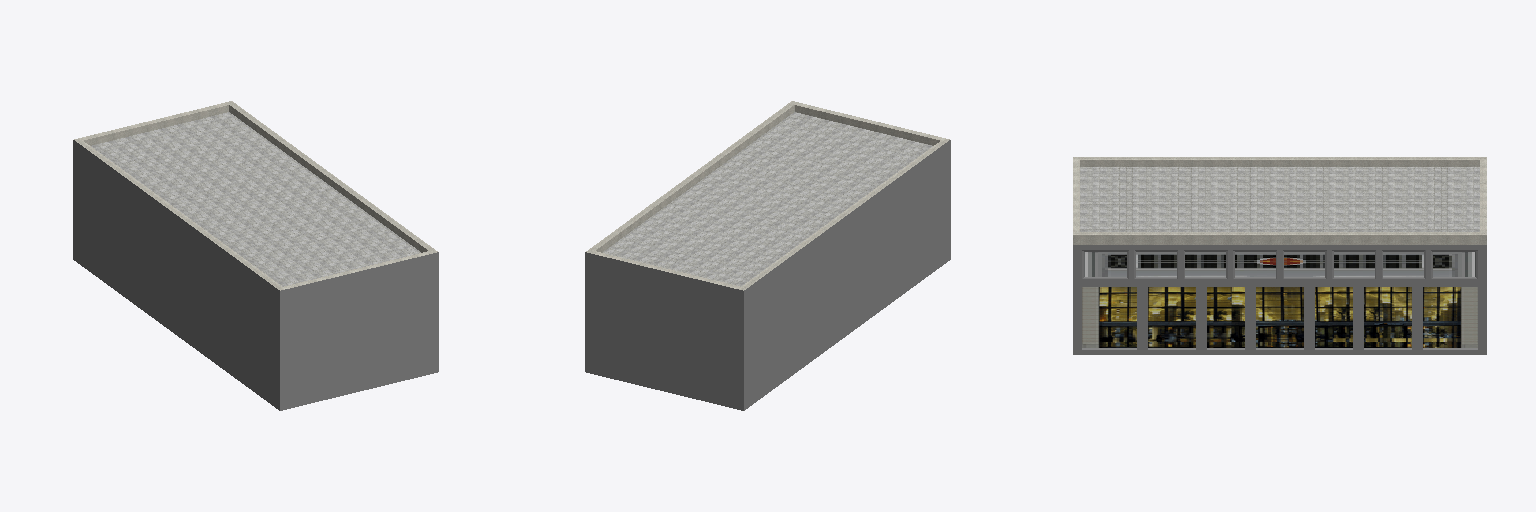
The picture shows the model from 3 angles: view 1: azimuth 30°, elevation 25°; view 2: azimuth 150°, elevation 25°; view 3: azimuth 270°, elevation 25°; orthographic projection.
Visible parts, largest first — view 1: shop1; view 2: shop1; view 3: shop1.
Part boxes in pixels (bbox=[...]): shop1: bbox=[73, 101, 438, 410]; shop1: bbox=[585, 101, 950, 410]; shop1: bbox=[1073, 157, 1486, 354].
Size of the model in its own units: 93.01 by 67.42 by 210.
Materials: 5 (4 with a texture image).